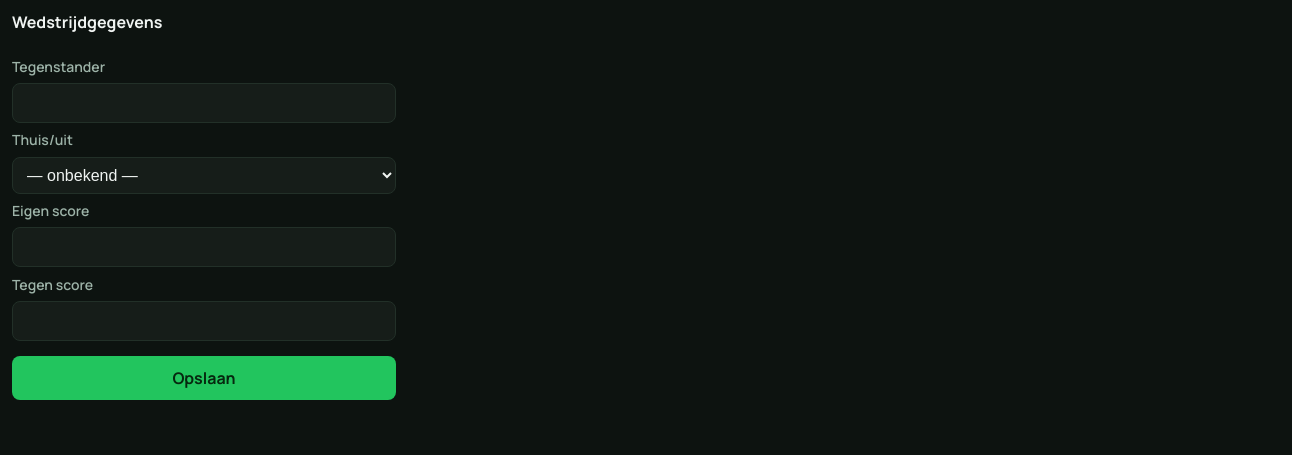
Scenario: WedstrijdGegevensScreen › shows an error and does not report success when saving fails
This screenshot has width=1292, height=455.
Click the button "Opslaan" at (204, 378), box [12,356,396,400]
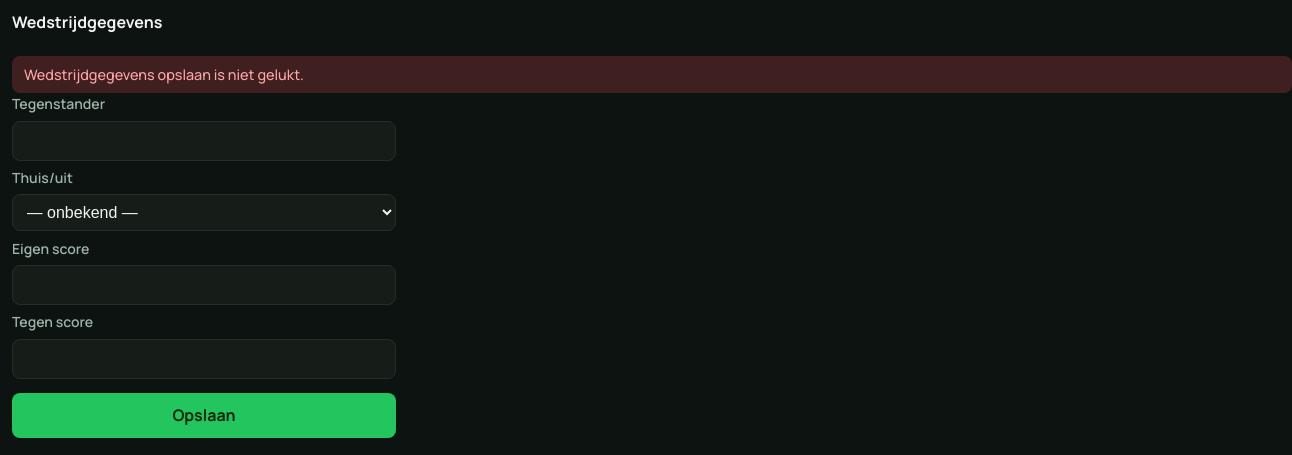
Expected: the message shows "niet gelukt", [24,64,304,84]
